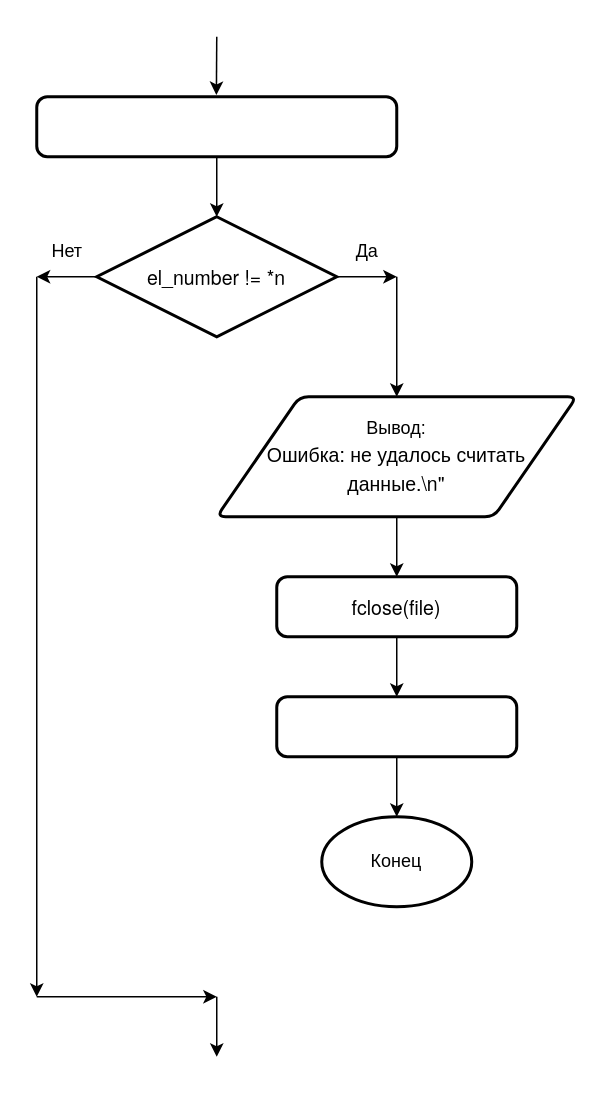
This 605x1095 diagram has some shape labels left out. The shapes that lost their labels are listed below. From the top down, each one's centre as x and y in pixels, then its label:
At (x=216, y=126): "el_number = fread(arr, sizeof(struct rectangle), *n, file)".
At (x=396, y=726): "*n = 0".
